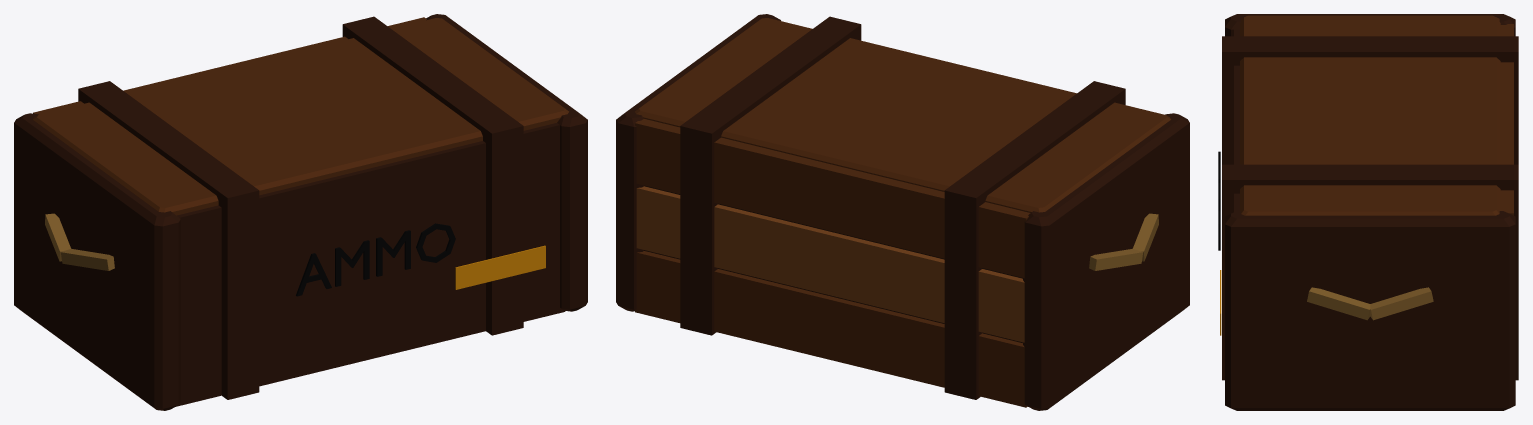
The model's file is SM_Prop_AmmoCrate_Wood.glb.
The picture shows the model from 3 angles, left to right: view 1: azimuth 30°, elevation 25°; view 2: azimuth 150°, elevation 25°; view 3: azimuth 270°, elevation 25°; orthographic projection.
Visible parts, largest first — view 1: SM_Prop_AmmoCrate_Wood; view 2: SM_Prop_AmmoCrate_Wood; view 3: SM_Prop_AmmoCrate_Wood.
Boxes of the visible parts, x1=… form: SM_Prop_AmmoCrate_Wood: x1=14, y1=14, x2=587, y2=410; SM_Prop_AmmoCrate_Wood: x1=616, y1=14, x2=1189, y2=410; SM_Prop_AmmoCrate_Wood: x1=1218, y1=14, x2=1518, y2=410.
Size of the model in its own units: 0.9102 by 0.365 by 0.496.
Materials: 1 (1 with a texture image).
